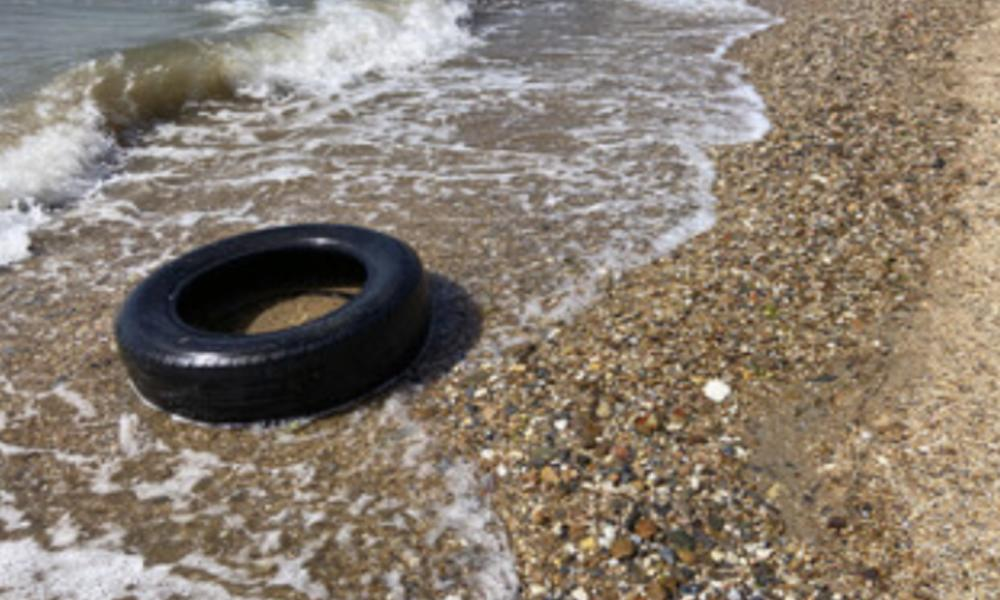tire: (116, 221, 426, 426)
